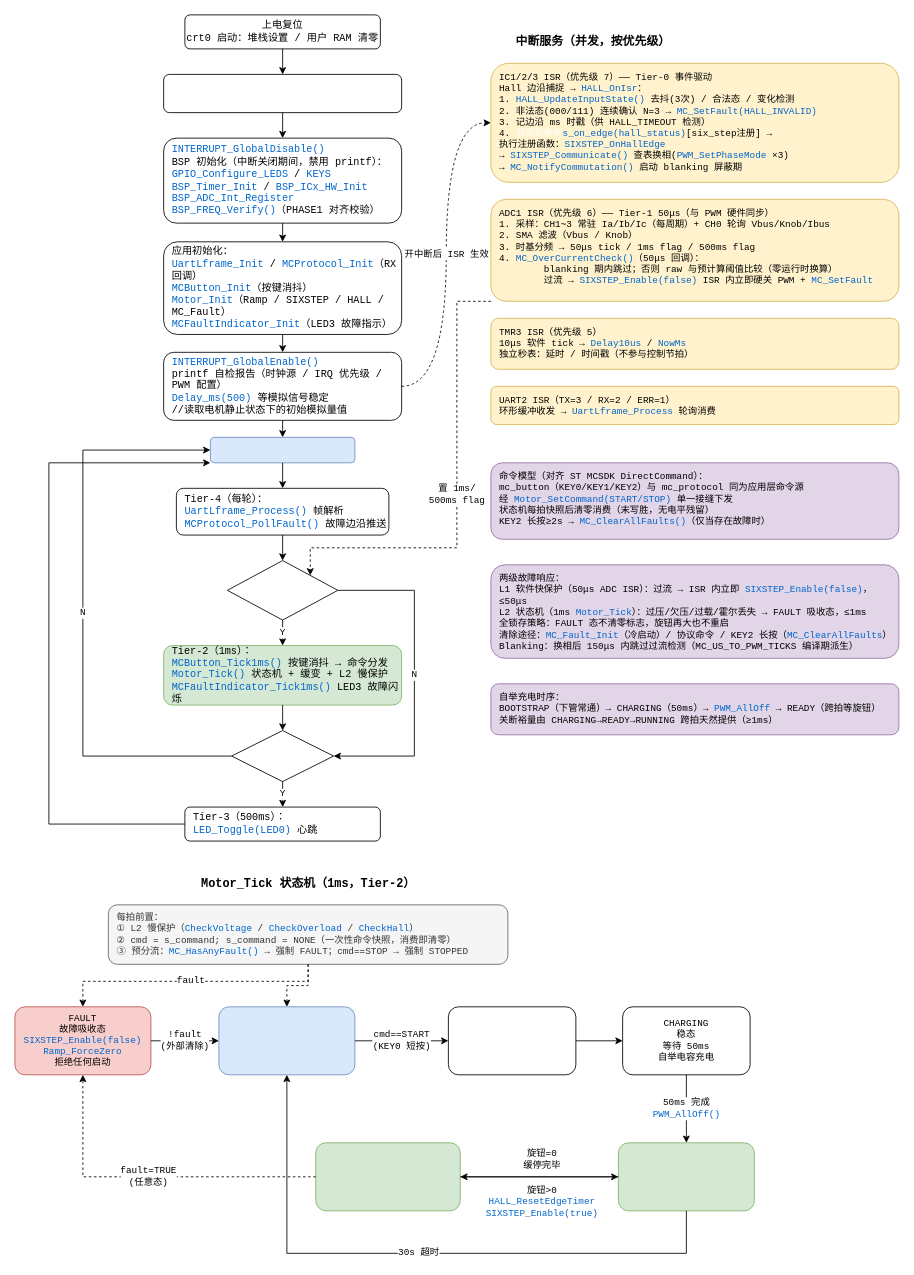
The diagram is 914 pixels wide and 1275 high, and some of its shapes have lost their labels. Each missing label, with the centre of its shape:
1ms flag ? （ADC ISR 置位）: [282,590]
500ms flag ?: [282,756]
BOOTSTRAP 瞬态 PWM_HighOffLowOn() 三相下管常通: [512,1040]
READY 就绪待速 PWM_AllOff 后等旋钮 30s 超时 → STOPPED: [686,1176]
RUNNING MC_Ramp_Step() 缓变 Hall ISR → 六步换相 旋钮=0 缓停 → READY: [387,1176]
STOPPED 正常停机 SIXSTEP_Enable(false) Ramp_ForceZero: [286,1040]
SYSTEM_Initialize() MCC 外设初始化（Clock / GPIO / PWM / ADC / UART2 / IC / TMR3）: [282,93]
while(1) 主循环: [282,449]
